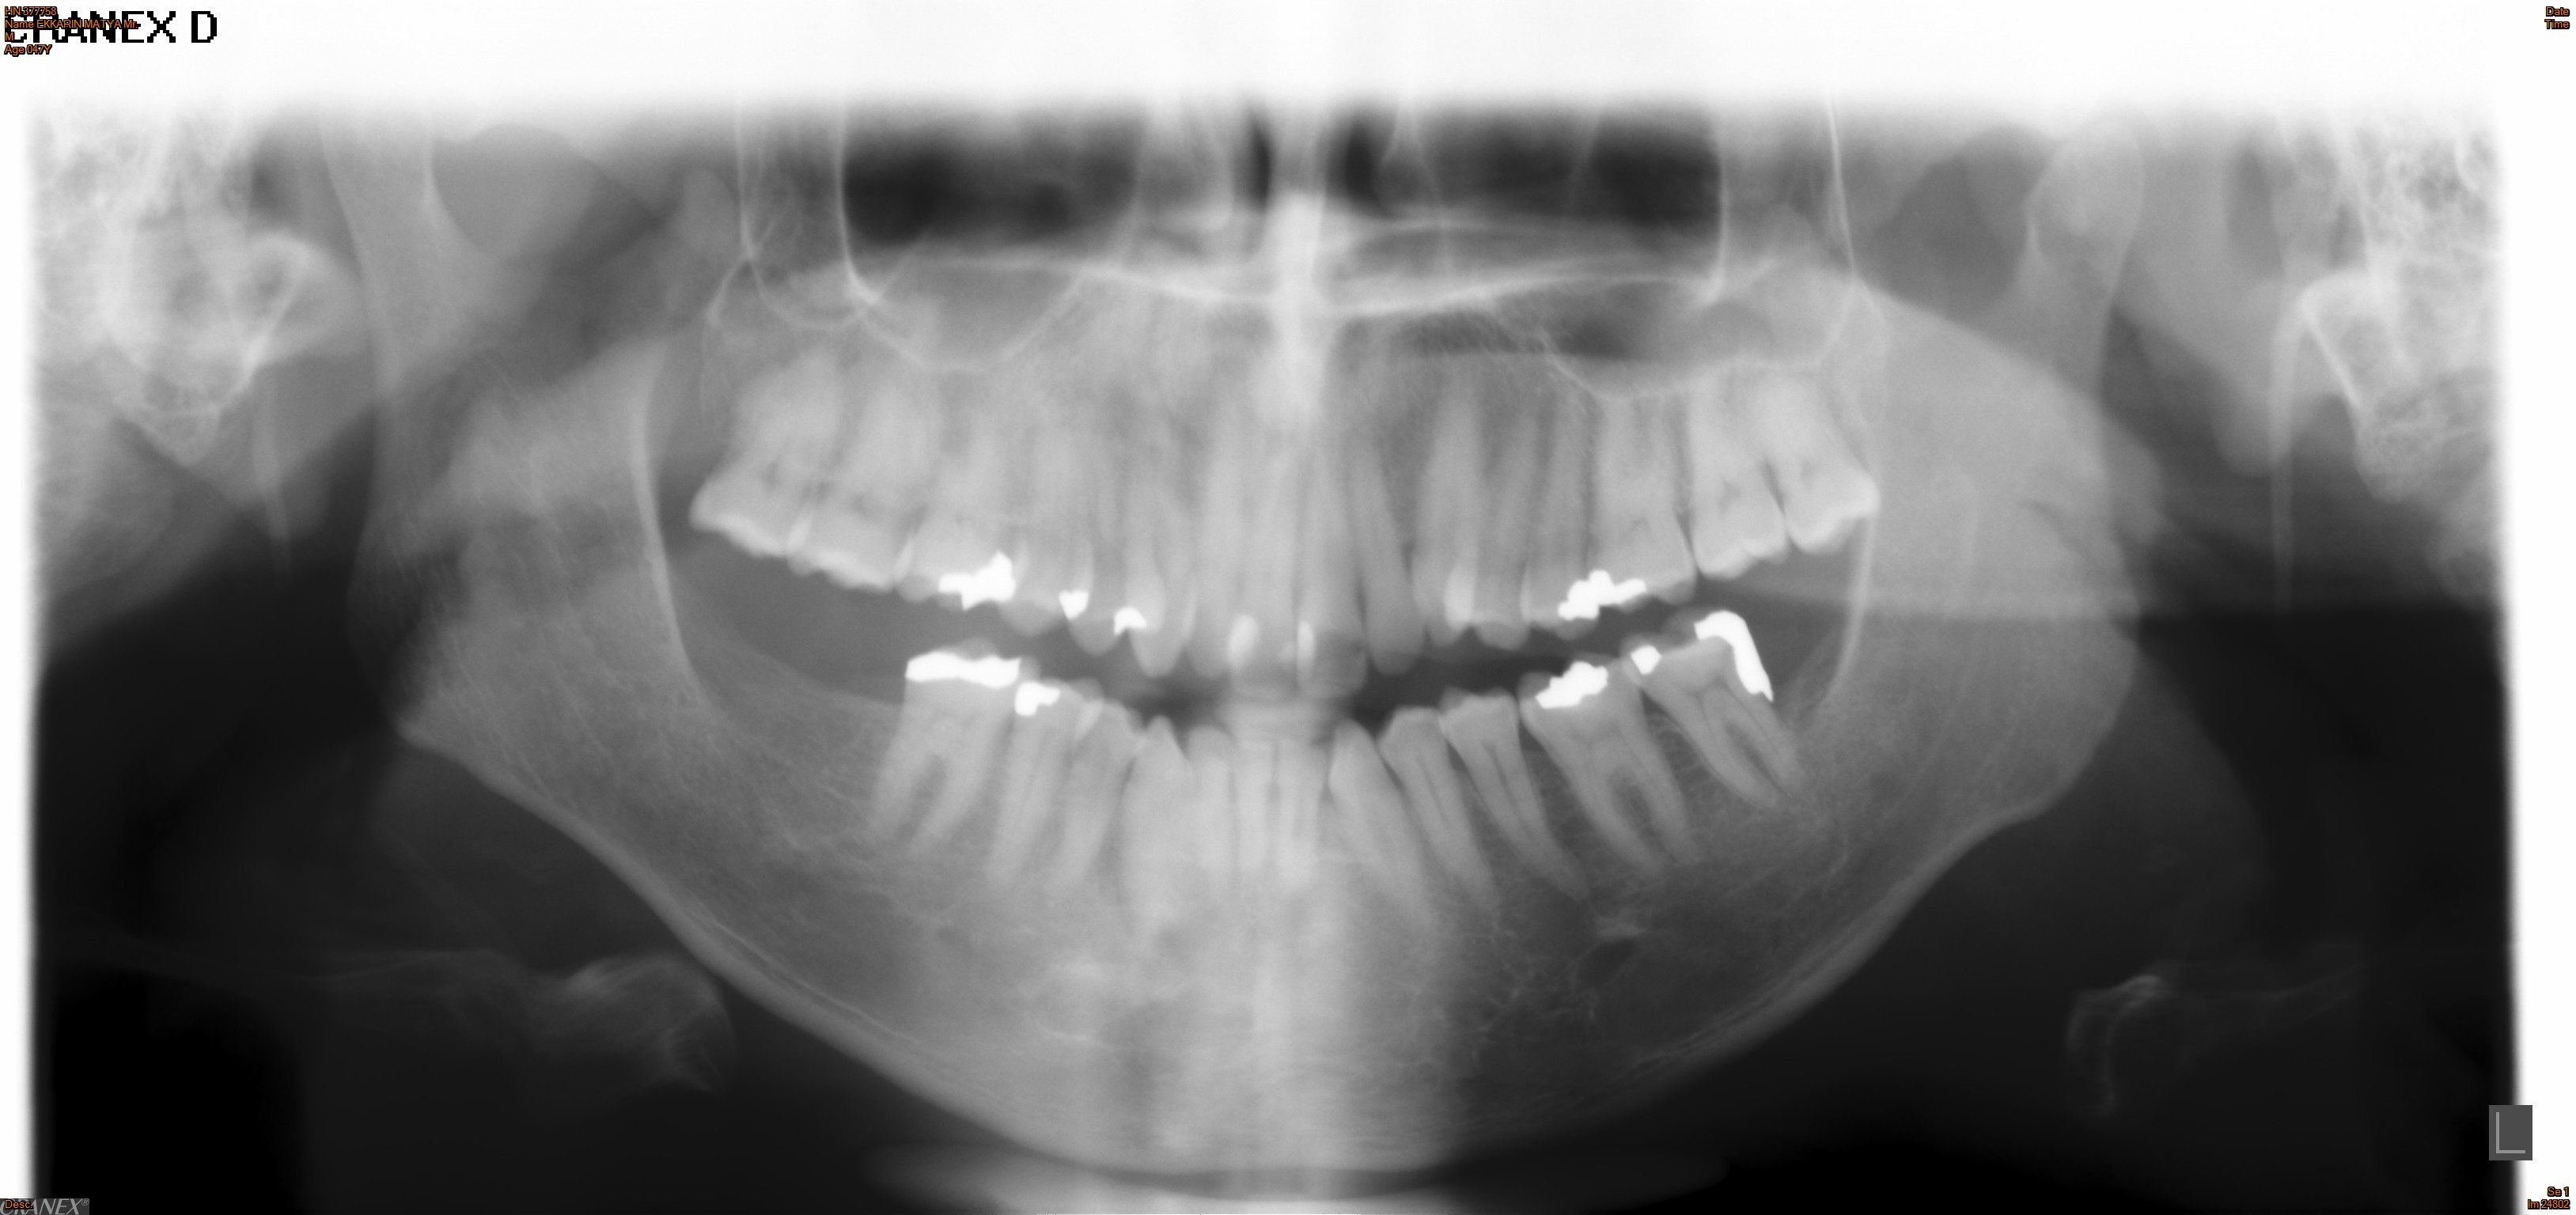periodontitis: (858, 626, 1032, 869)
